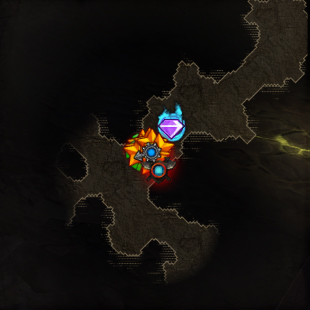Urushi: (159, 103, 186, 141)
